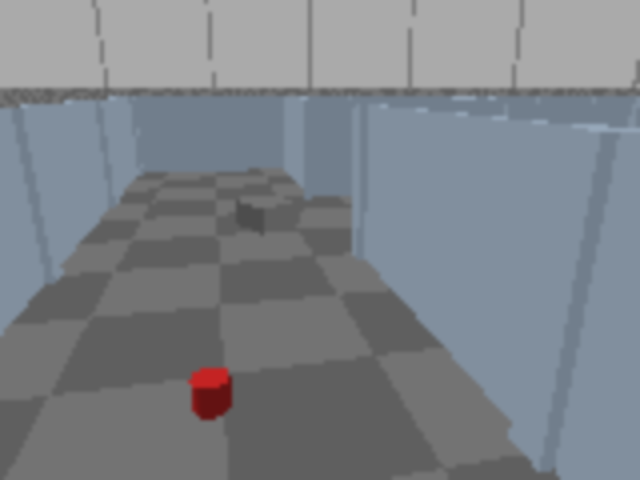puck: (194, 368, 228, 418)
